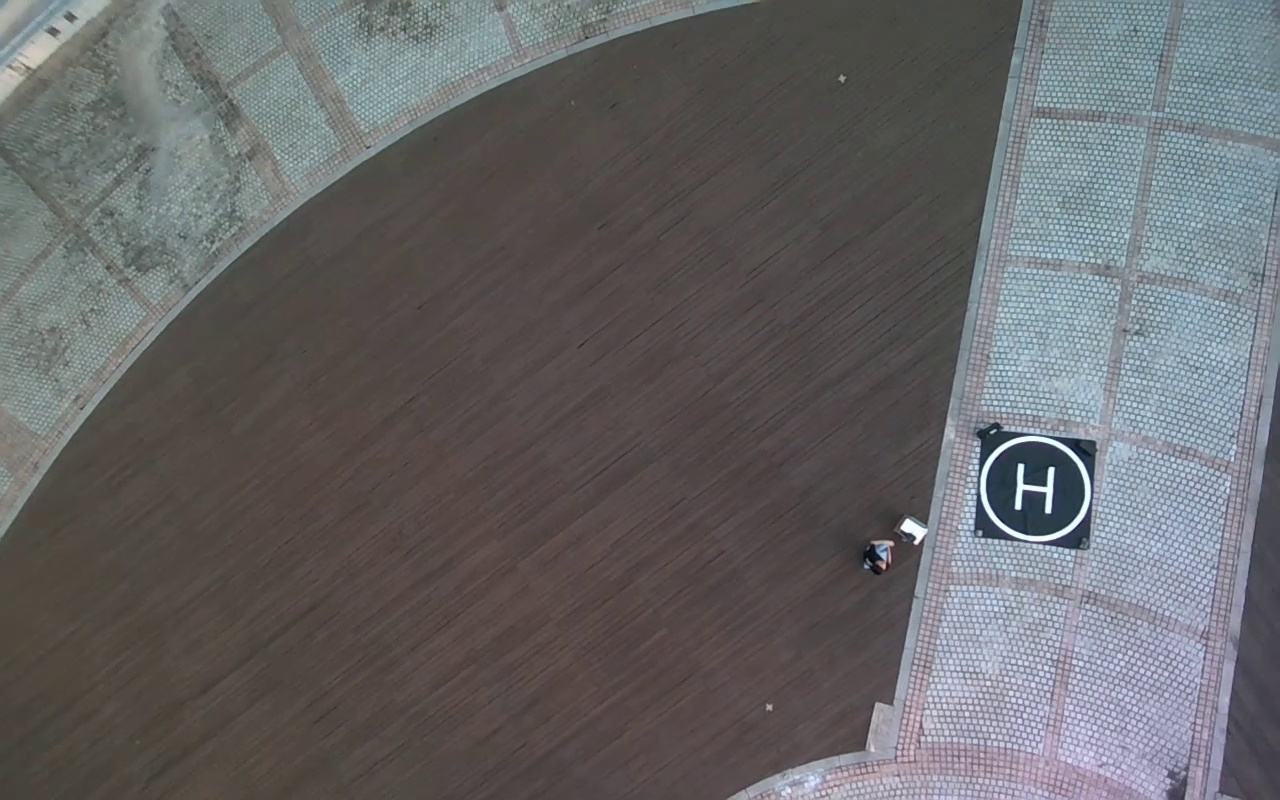H: (1013, 464, 1057, 515)
heliport: (980, 434, 1094, 543)
